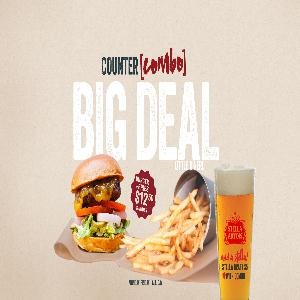cheeseburger_475cal: (67, 156, 128, 255)
fries_350cal: (160, 186, 210, 273)
